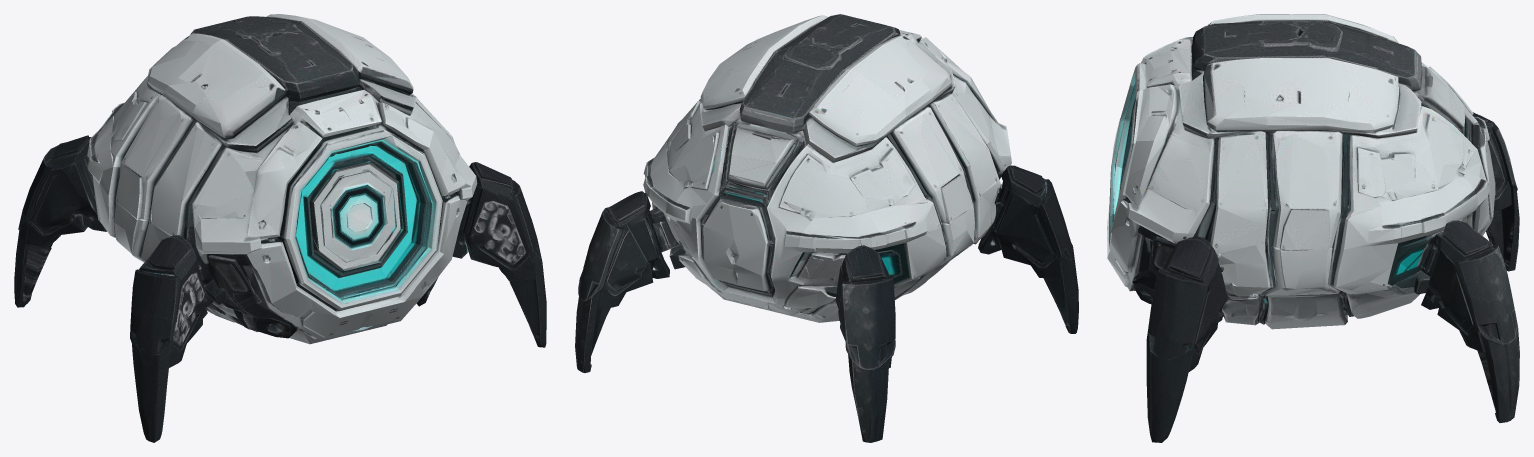
Rendered from g3_turtle.glb.
3 renders of one model, left to right at view 1: azimuth 30°, elevation 25°; view 2: azimuth 150°, elevation 25°; view 3: azimuth 270°, elevation 25°, orthographic. The views are drawn at different scales.
Size of the model in its own units: 1.9 by 1.38 by 1.65.
1 material, 1 textured.
